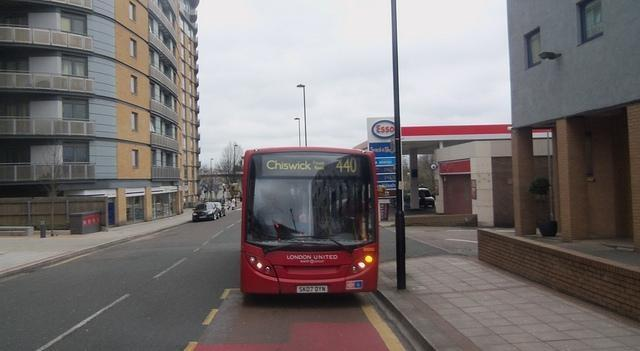bus: (240, 146, 380, 292)
car: (192, 203, 220, 221), (418, 186, 435, 208), (207, 202, 227, 217)
